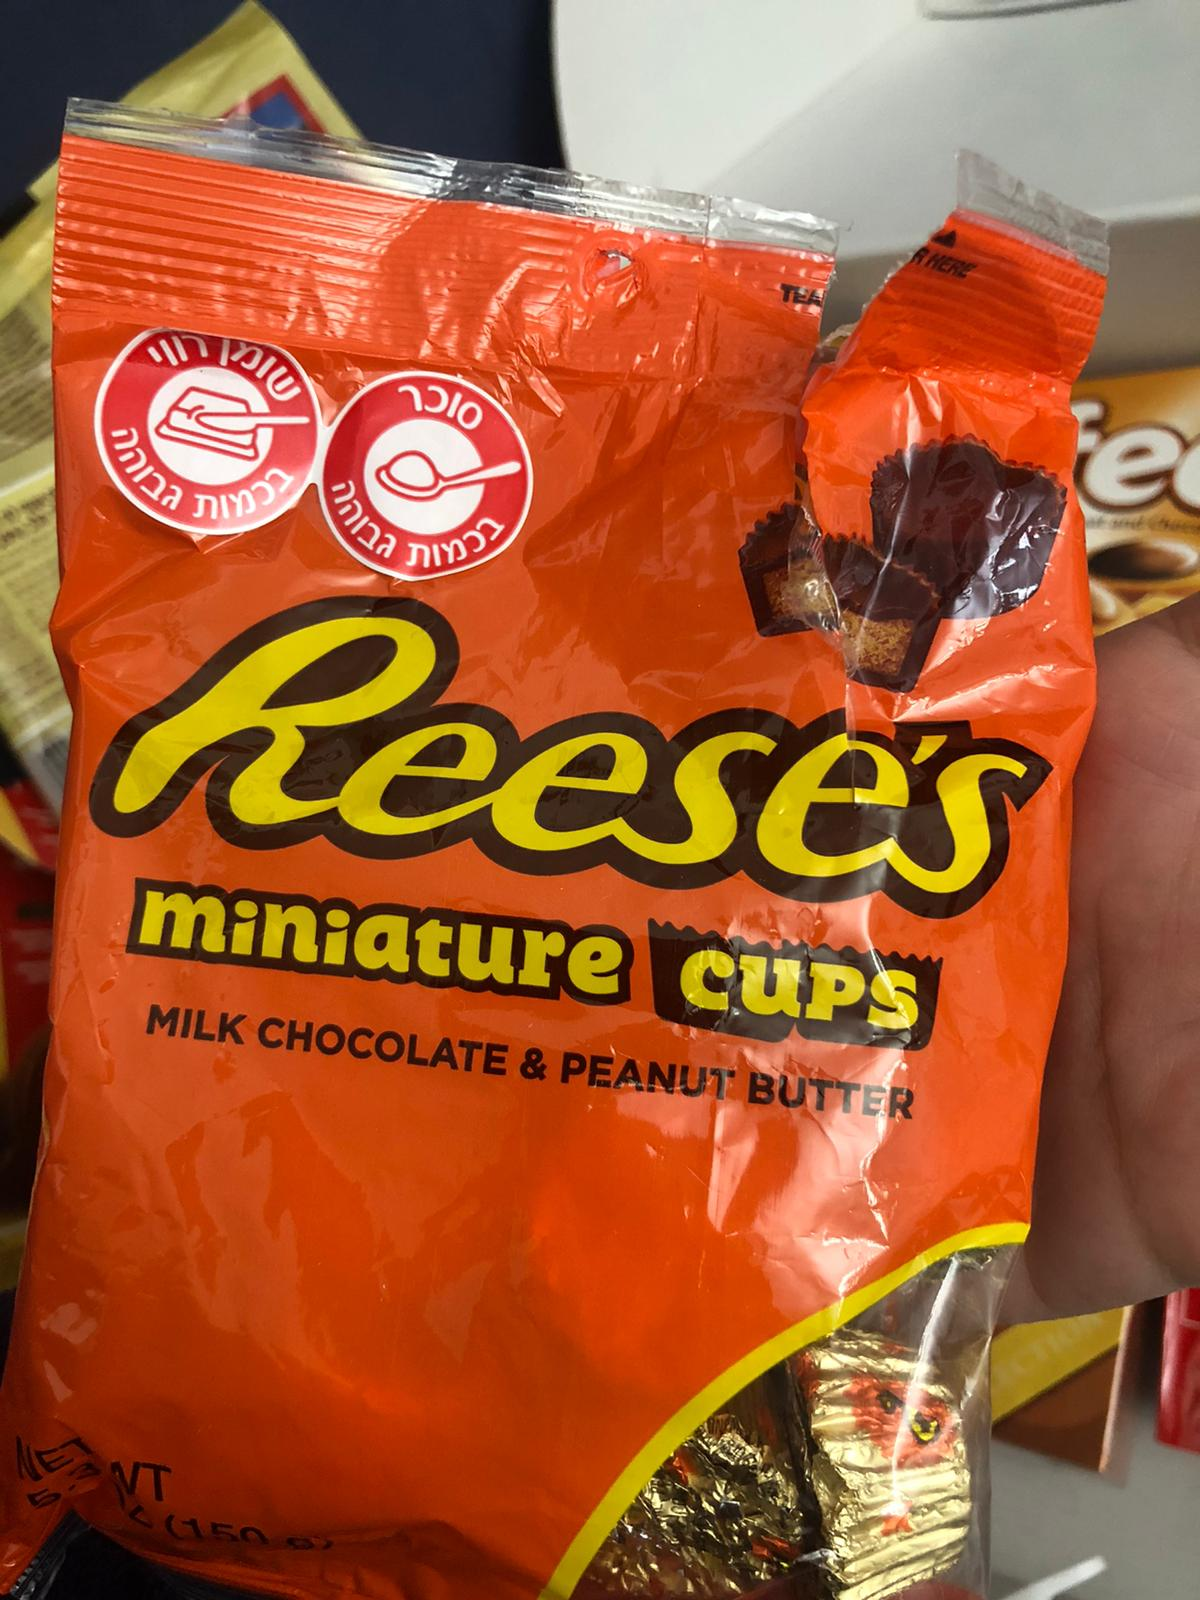fat: (95, 323, 316, 535)
sugar: (321, 367, 537, 573)
